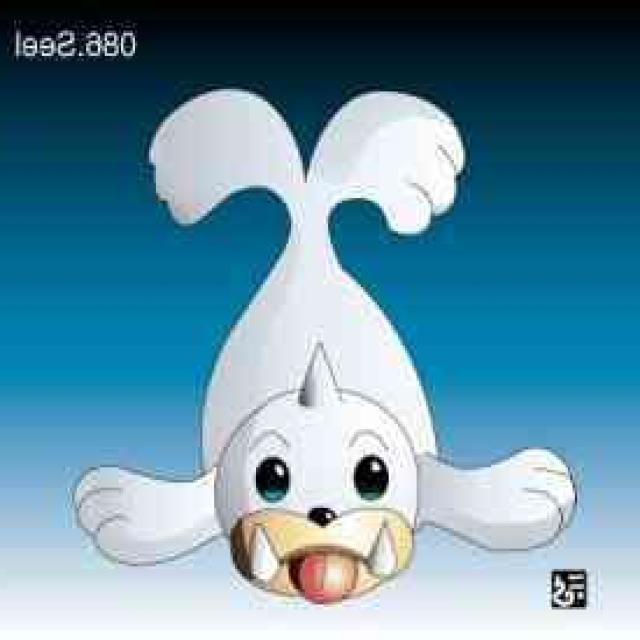Seel: (144, 84, 470, 604)
